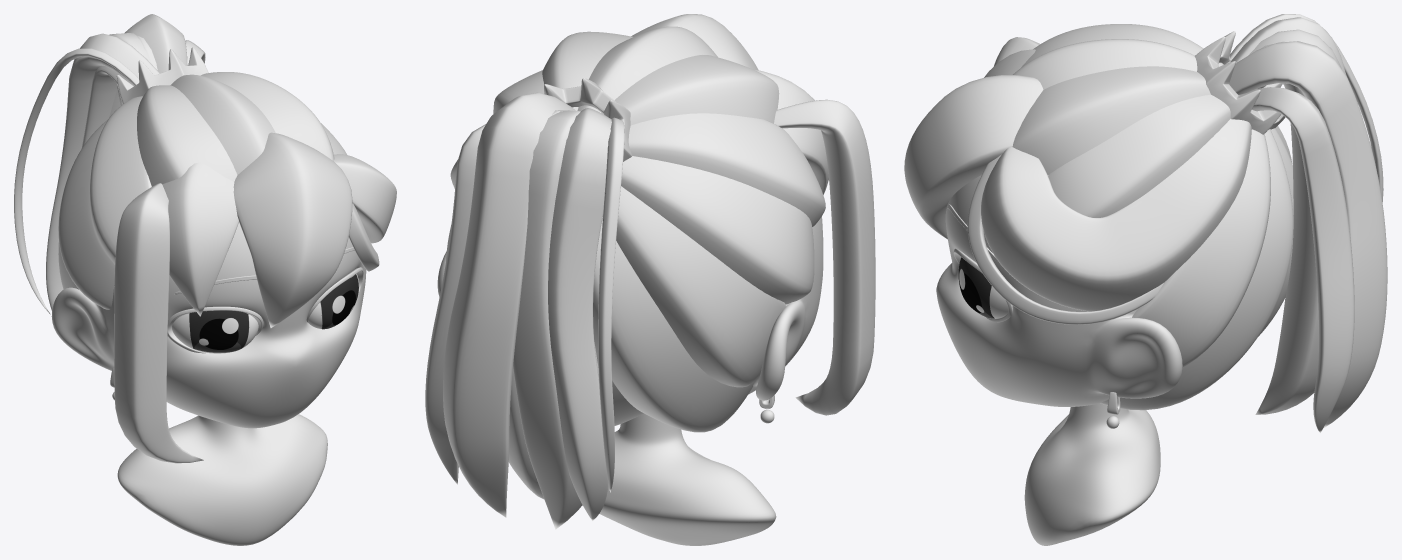
Rendered from fullChara.fbx.
3 renders of one model, left to right at view 1: azimuth 30°, elevation 25°; view 2: azimuth 150°, elevation 25°; view 3: azimuth 270°, elevation 25°, orthographic. The views are drawn at different scales.
Parts seen in each view (by area): view 1: bangs, topHair, head, chest, ponytail, details, pupil_R, pupil_L; view 2: ponytail, topHair, bottomHair, bangs, chest, head, details; view 3: topHair, ponytail, bottomHair, head, bangs, chest, details, pupil_L.
Boxes of the visible parts, bbox=[...] form: bangs: bbox=[114, 132, 379, 463]; topHair: bbox=[58, 72, 396, 309]; head: bbox=[51, 222, 366, 428]; chest: bbox=[117, 414, 327, 545]; ponytail: bbox=[14, 14, 205, 314]; details: bbox=[110, 47, 363, 400]; pupil_R: bbox=[172, 310, 258, 353]; pupil_L: bbox=[308, 274, 359, 329]; ponytail: bbox=[425, 92, 624, 529]; topHair: bbox=[450, 26, 825, 304]; bottomHair: bbox=[446, 186, 786, 432]; bangs: bbox=[631, 14, 875, 415]; chest: bbox=[582, 413, 776, 545]; head: bbox=[437, 216, 823, 400]; details: bbox=[544, 78, 774, 423]; topHair: bbox=[981, 24, 1251, 311]; ponytail: bbox=[1226, 14, 1387, 432]; bottomHair: bbox=[1100, 126, 1293, 410]; head: bbox=[936, 175, 1182, 406]; bangs: bbox=[904, 37, 1163, 324]; chest: bbox=[1024, 403, 1160, 545]; details: bbox=[947, 31, 1285, 428]; pupil_L: bbox=[958, 257, 1008, 318].
Size of the model in its own units: 250 by 363 by 314.
